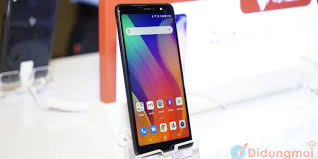vsmart: (109, 4, 197, 154)
